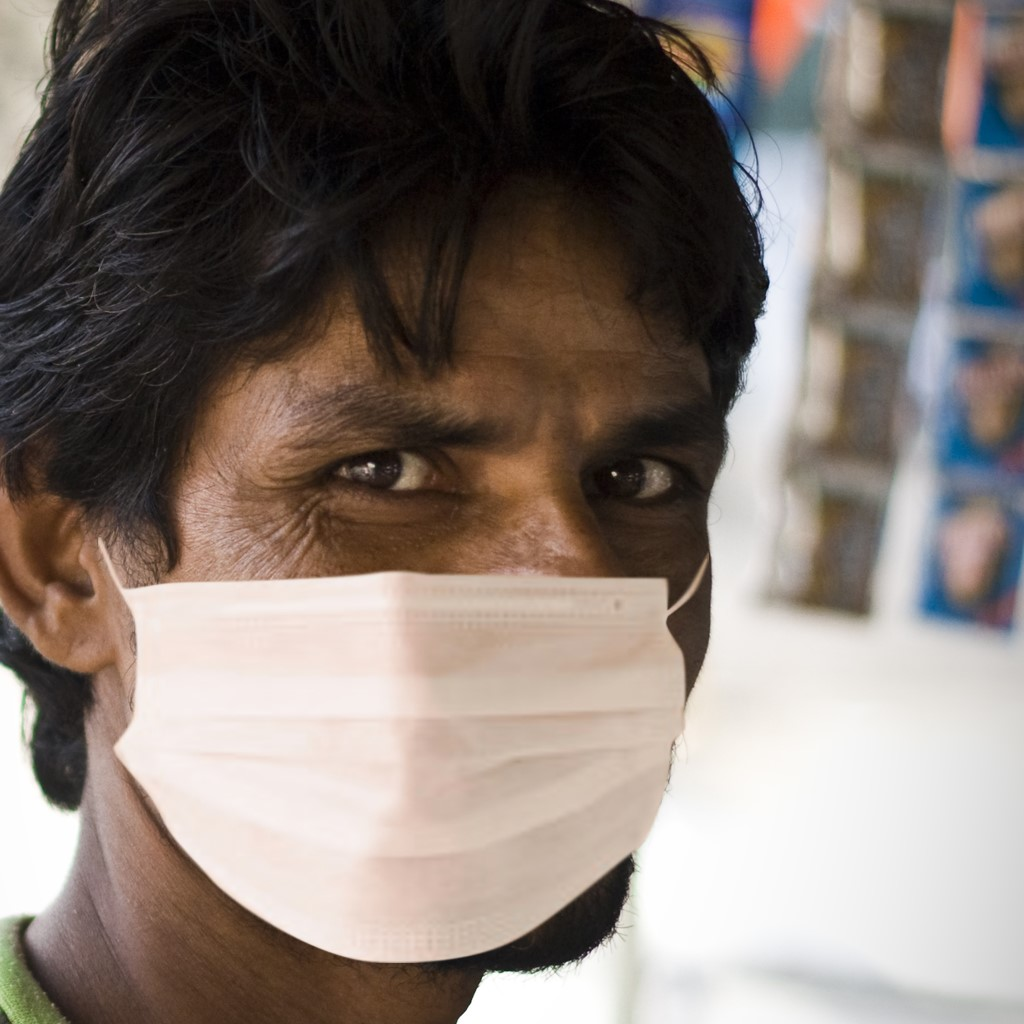con_mascara: (132, 196, 724, 974)
